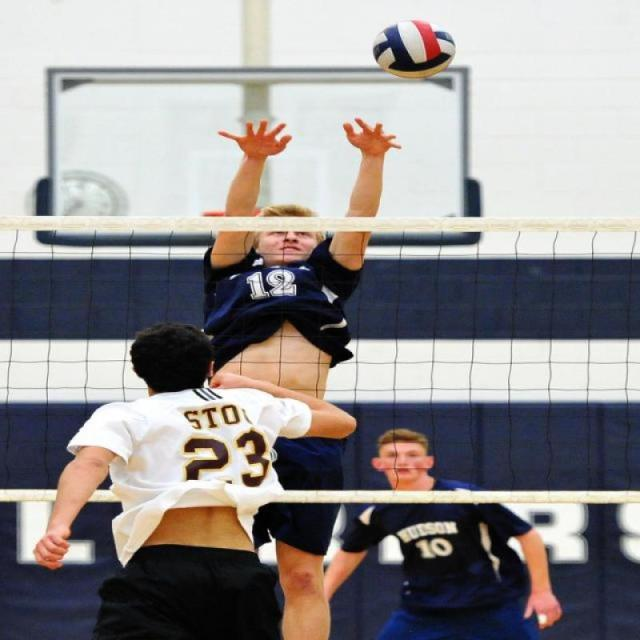volleyball: (370, 17, 460, 79)
